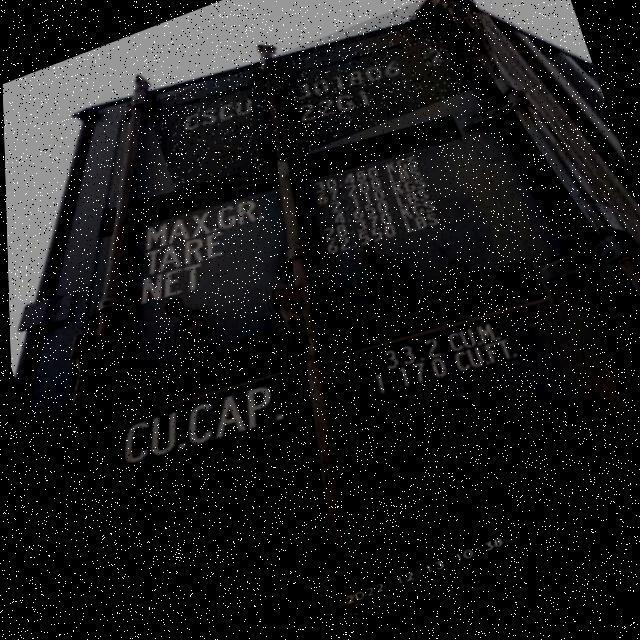container_number_h: (143, 0, 502, 205)
